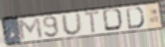9: (42, 15, 59, 38)
D: (101, 8, 126, 32), (125, 6, 146, 30)
M: (15, 16, 44, 41)
T: (83, 9, 102, 35)
U: (60, 12, 84, 36)
